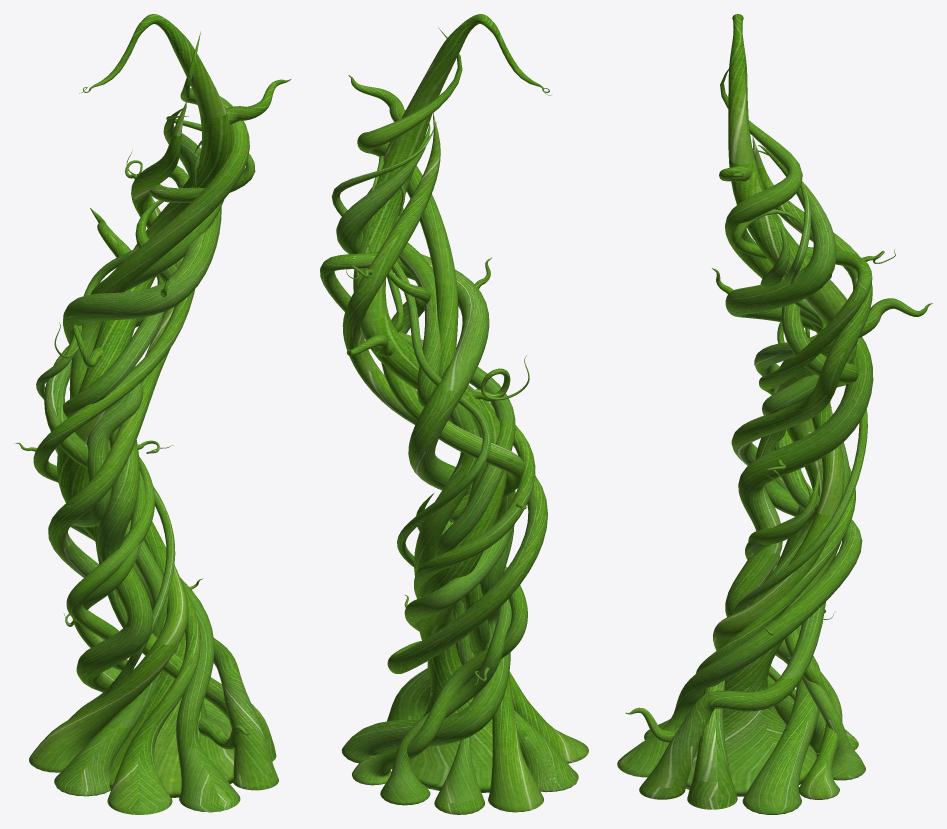
File: Beanstalk.fbx
3 renders of one model, left to right at view 1: azimuth 30°, elevation 25°; view 2: azimuth 150°, elevation 25°; view 3: azimuth 270°, elevation 25°, orthographic.
Parts seen in each view (by area): view 1: Stalk11, Stalk12, MainStalk, Stalk10, Stalk6, Stalk5, Stalk4, Stalk3, Stalk7, Stalk9, Stalk8, pCylinder3 (+3 smaller); view 2: MainStalk, Stalk12, Stalk11, Stalk10, Stalk4, Stalk6, Stalk3, Stalk9, Stalk5, Stalk7, Stalk8, pCylinder9 (+2 smaller); view 3: Stalk12, MainStalk, Stalk10, Stalk5, Stalk11, Stalk6, Stalk3, Stalk9, Stalk7, Stalk8, Stalk4, pCylinder4.
Part boxes in pixels (x1,y1,x2,y2): Stalk11: (29,31,249,772); Stalk12: (63,108,231,737); MainStalk: (57,14,234,797); Stalk10: (48,101,278,790); Stalk6: (33,140,255,814); Stalk5: (71,152,240,812); Stalk4: (50,275,168,796); Stalk3: (44,185,276,761); Stalk7: (66,456,154,640); Stalk9: (36,116,201,719); Stalk8: (72,470,145,670); pCylinder3: (225,79,291,124); MainStalk: (353,14,540,792); Stalk12: (336,121,514,763); Stalk11: (357,27,543,812); Stalk10: (342,113,547,673); Stalk4: (387,269,578,792); Stalk6: (320,156,588,763); Stalk3: (368,244,524,721); Stalk9: (331,121,491,814); Stalk5: (367,179,515,631); Stalk7: (352,493,527,785); Stalk8: (380,521,511,805); pCylinder9: (472,355,529,401); Stalk12: (725,145,873,814); MainStalk: (685,14,857,796); Stalk10: (639,136,872,799); Stalk5: (617,214,862,777); Stalk11: (713,63,844,724); Stalk6: (644,209,872,739); Stalk3: (687,274,858,809); Stalk9: (732,149,867,753); Stalk7: (748,466,842,799); Stalk8: (745,476,865,780); Stalk4: (749,278,849,605); pCylinder4: (859,298,932,337).
Bounding box in the file's own units: 71.15 × 223 × 85.53.
